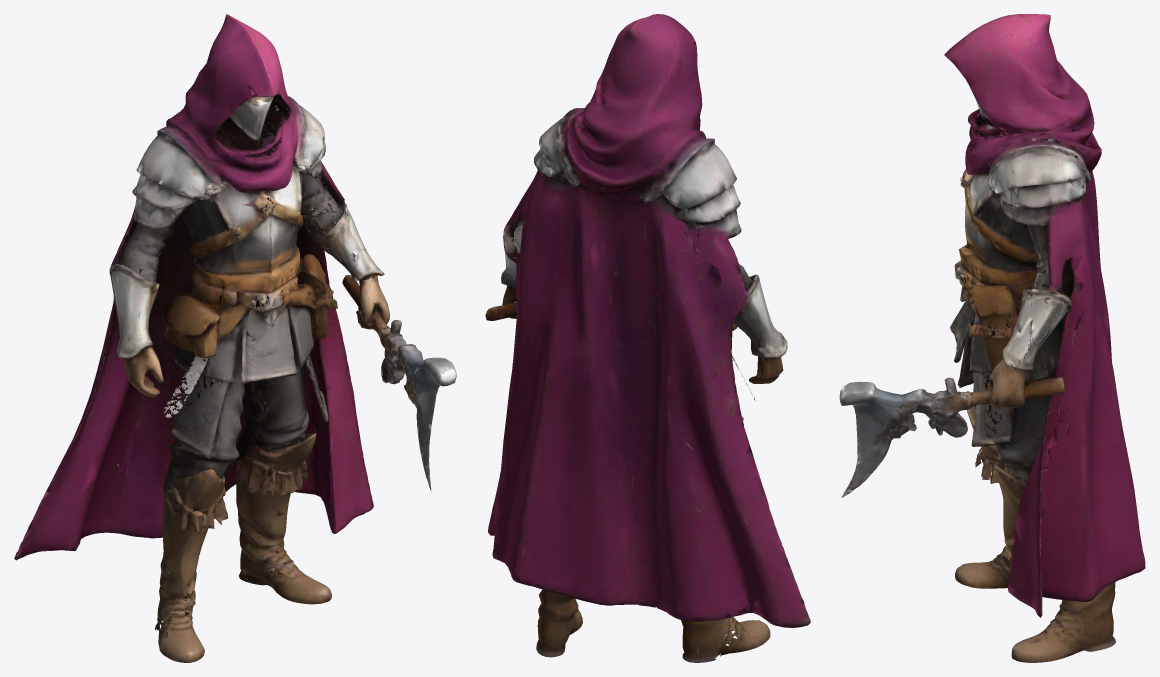
The model's file is fig_npc_vex.glb.
3 views of the same model, side by side, from view 1: azimuth 30°, elevation 25°; view 2: azimuth 150°, elevation 25°; view 3: azimuth 270°, elevation 25° (orthographic). The views are drawn at different scales.
Visible parts, largest first — view 1: geometry_0; view 2: geometry_0; view 3: geometry_0.
Part boxes in pixels (box(x1,y1,x2,y2)): geometry_0: box(14, 14, 456, 662); geometry_0: box(485, 14, 810, 662); geometry_0: box(839, 14, 1145, 662).
Bounding box in the file's own units: 0.5687 × 0.9642 × 0.4433.
Materials: 1 (1 with a texture image).
